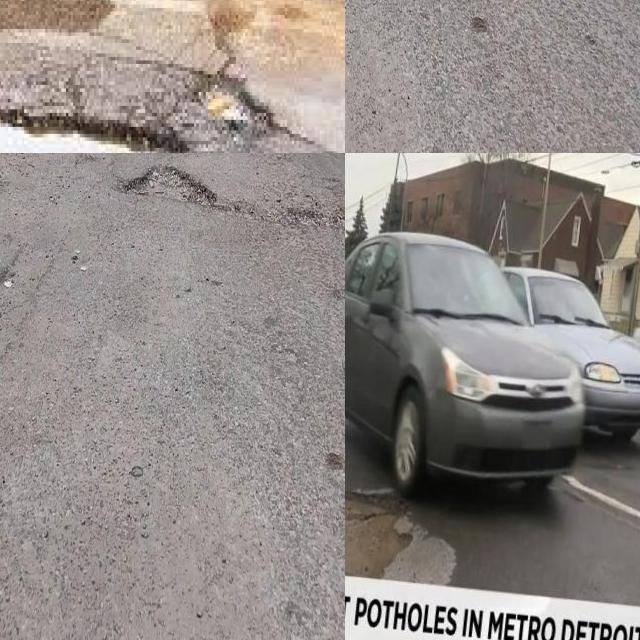Pothole: (345, 490, 454, 587), (345, 488, 456, 582), (345, 500, 411, 577), (121, 162, 216, 207)
